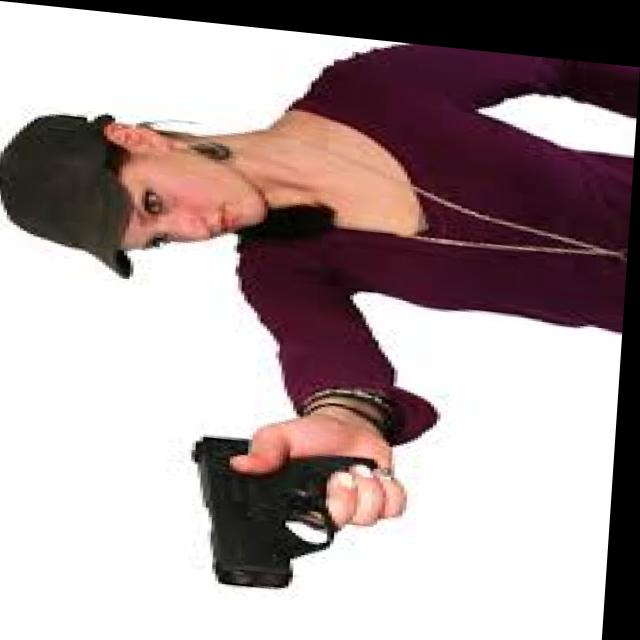handgun: (173, 426, 406, 600)
